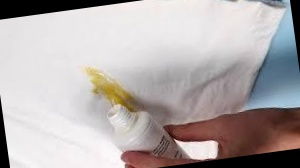mustard: (90, 68, 134, 108)
